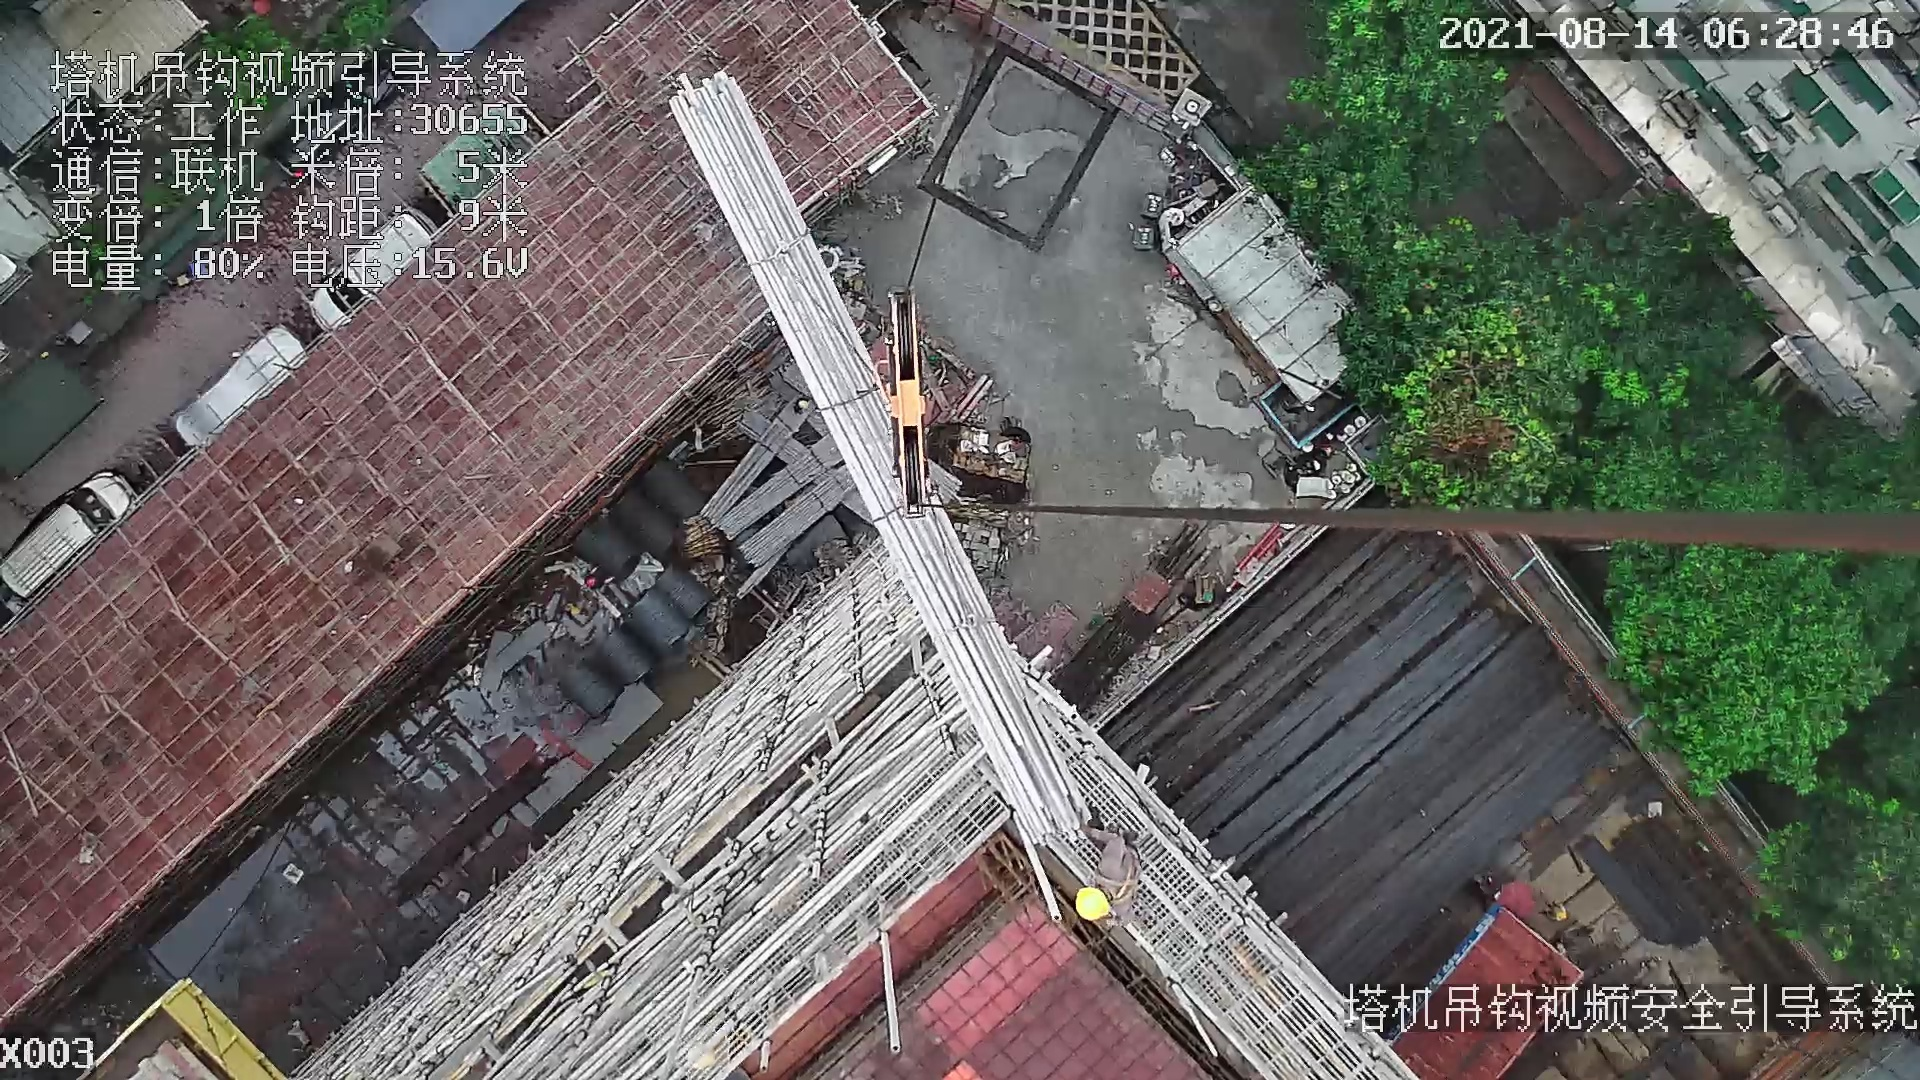helmet: (1071, 880, 1120, 935)
hook: (885, 284, 934, 522)
person: (1071, 813, 1139, 930)
